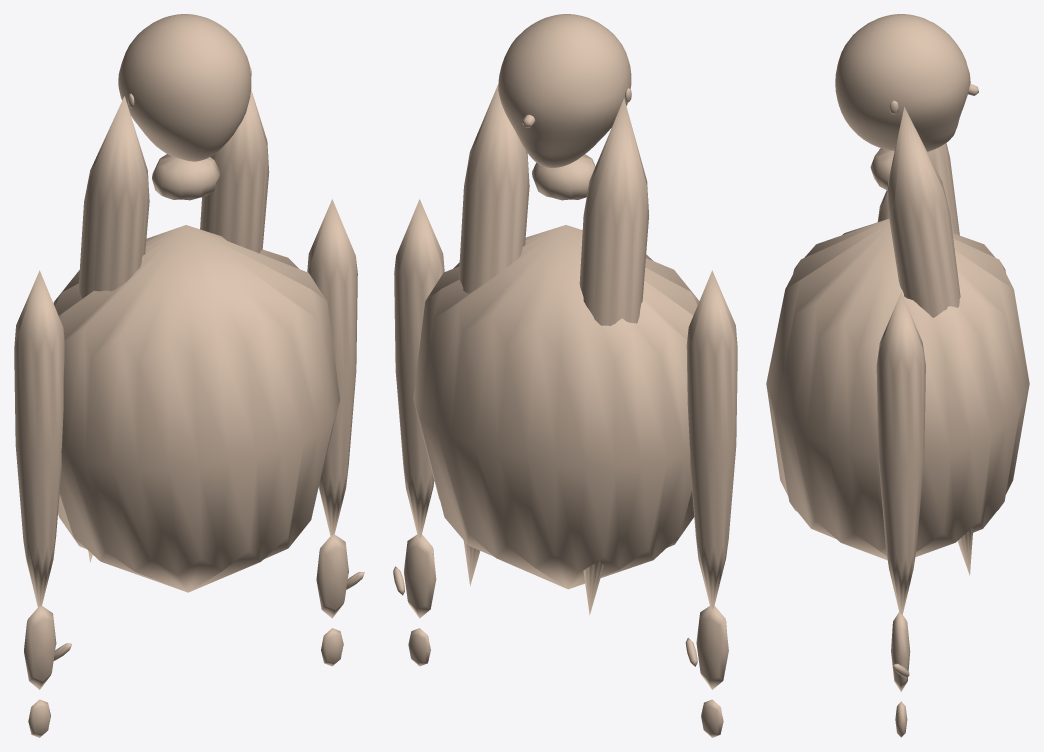
File: npc_mechanic.glb
3 renders of one model, left to right at view 1: azimuth 30°, elevation 25°; view 2: azimuth 150°, elevation 25°; view 3: azimuth 270°, elevation 25°, orthographic. The views are drawn at different scales.
Parts seen in each view (by area): view 1: npc_mechanic; view 2: npc_mechanic; view 3: npc_mechanic.
Boxes of the visible parts, <box> form: npc_mechanic: <box>14,14,364,737</box>; npc_mechanic: <box>393,14,737,737</box>; npc_mechanic: <box>766,14,1029,737</box>.
Size of the model in its own units: 0.5983 by 1.14 by 0.4179.
